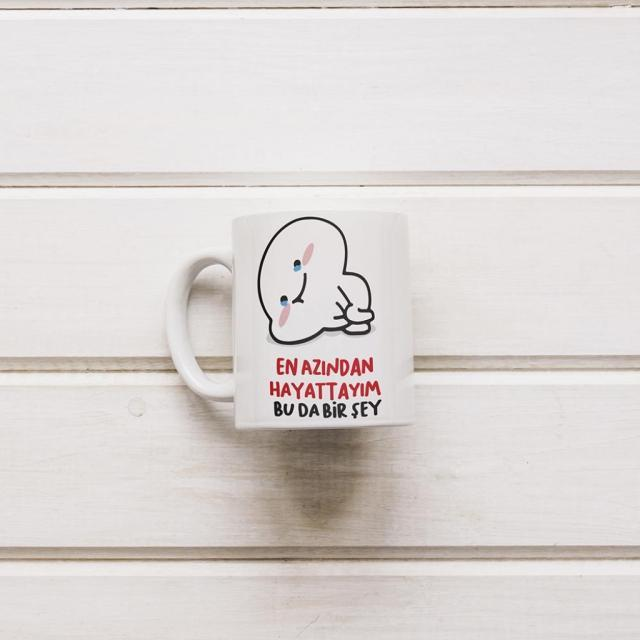Coffee Mug: (165, 208, 416, 433)
